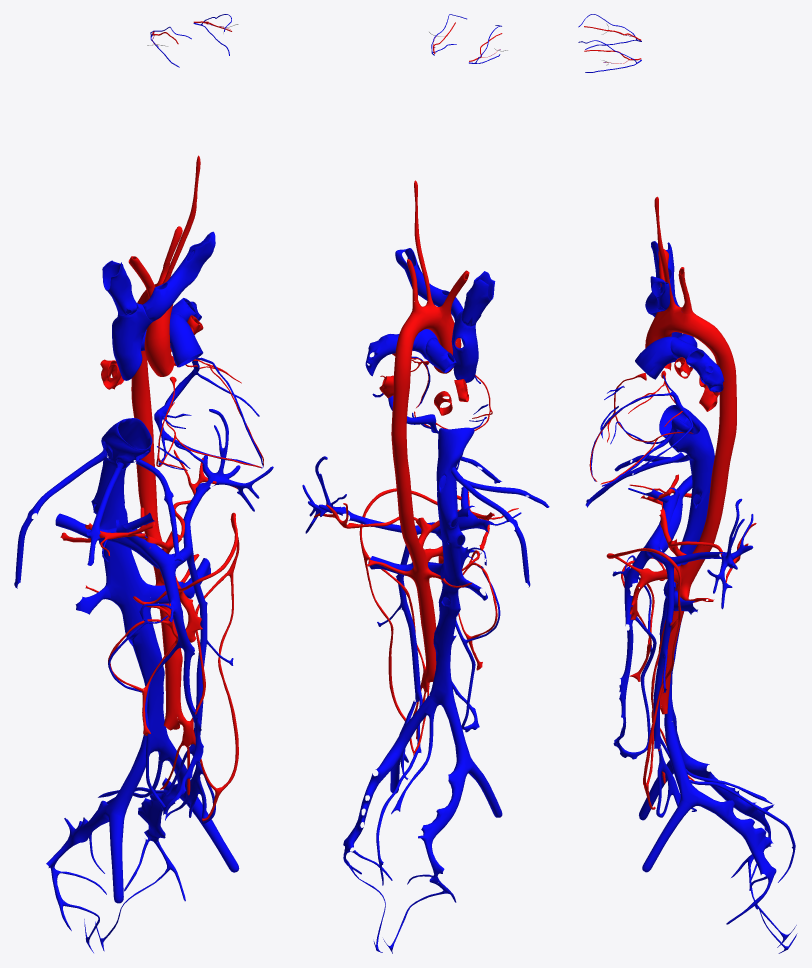
Rendered from blood-vasculature-male.glb.
3 renders of one model, left to right at view 1: azimuth 30°, elevation 25°; view 2: azimuth 150°, elevation 25°; view 3: azimuth 270°, elevation 25°, orthographic. The views are drawn at different scales.
Visible parts, largest first — view 1: VH_M_inferior_vena_cava_b, VH_M_descending_aorta_b, VH_M_superior_mesenteric_vein, VH_M_inferior_vena_cava_a, VH_M_splenic_vein, VH_M_brachiocephalic_vein_L, VH_M_superior_vena_cava, VH_M_marginal_artery_of_Drummond, VH_M_descending_aorta_a, VH_M_inferior_mesenteric_vein, VH_M_brachiocephalic_vein_R, VH_M_pulmonary_trunk (+18 smaller); view 2: VH_M_inferior_vena_cava_b, VH_M_descending_aorta_b, VH_M_descending_aorta_a, VH_M_inferior_vena_cava_a, VH_M_internal_iliac_vein_R, VH_M_aortic_arch, VH_M_superior_vena_cava, VH_M_splenic_vein, VH_M_brachiocephalic_vein_R, VH_M_brachiocephalic_vein_L, VH_M_internal_iliac_vein_L, VH_M_marginal_artery_of_Drummond (+8 smaller); view 3: VH_M_descending_aorta_a, VH_M_descending_aorta_b, VH_M_inferior_vena_cava_b, VH_M_inferior_vena_cava_a, VH_M_internal_iliac_vein_L, VH_M_aortic_arch, VH_M_splenic_vein, VH_M_superior_mesenteric_vein, VH_M_pulmonary_artery_L, VH_M_inferior_mesenteric_vein, VH_M_internal_iliac_vein_R, VH_M_marginal_artery_of_Drummond (+12 smaller).
Part boxes in pixels (x1=…): VH_M_inferior_vena_cava_b: x1=91, y1=474, x2=169, y2=753; VH_M_descending_aorta_b: x1=136, y1=459, x2=182, y2=730; VH_M_superior_mesenteric_vein: x1=158, y1=565, x2=203, y2=812; VH_M_inferior_vena_cava_a: x1=101, y1=418, x2=152, y2=482; VH_M_splenic_vein: x1=170, y1=409, x2=273, y2=568; VH_M_brachiocephalic_vein_L: x1=142, y1=231, x2=215, y2=321; VH_M_superior_vena_cava: x1=112, y1=302, x2=152, y2=380; VH_M_marginal_artery_of_Drummond: x1=179, y1=512, x2=239, y2=821; VH_M_descending_aorta_a: x1=131, y1=298, x2=154, y2=462; VH_M_inferior_mesenteric_vein: x1=186, y1=548, x2=207, y2=755; VH_M_brachiocephalic_vein_R: x1=102, y1=260, x2=137, y2=315; VH_M_pulmonary_trunk: x1=169, y1=313, x2=203, y2=367; VH_M_inferior_vena_cava_b: x1=429, y1=490, x2=465, y2=707; VH_M_descending_aorta_b: x1=396, y1=486, x2=436, y2=682; VH_M_descending_aorta_a: x1=391, y1=344, x2=412, y2=489; VH_M_inferior_vena_cava_a: x1=436, y1=427, x2=474, y2=493; VH_M_internal_iliac_vein_R: x1=418, y1=762, x2=468, y2=883; VH_M_aortic_arch: x1=397, y1=304, x2=459, y2=349; VH_M_superior_vena_cava: x1=451, y1=311, x2=478, y2=382; VH_M_splenic_vein: x1=302, y1=456, x2=440, y2=534; VH_M_brachiocephalic_vein_R: x1=461, y1=271, x2=495, y2=326; VH_M_brachiocephalic_vein_L: x1=395, y1=248, x2=463, y2=320; VH_M_internal_iliac_vein_L: x1=343, y1=752, x2=399, y2=853; VH_M_marginal_artery_of_Drummond: x1=359, y1=488, x2=437, y2=753; VH_M_descending_aorta_a: x1=709, y1=334, x2=736, y2=488; VH_M_descending_aorta_b: x1=657, y1=485, x2=726, y2=714; VH_M_inferior_vena_cava_b: x1=659, y1=470, x2=712, y2=722; VH_M_inferior_vena_cava_a: x1=659, y1=405, x2=714, y2=472; VH_M_internal_iliac_vein_L: x1=696, y1=791, x2=776, y2=881; VH_M_aortic_arch: x1=647, y1=306, x2=721, y2=348; VH_M_splenic_vein: x1=645, y1=498, x2=753, y2=609; VH_M_superior_mesenteric_vein: x1=613, y1=545, x2=651, y2=753; VH_M_pulmonary_artery_L: x1=670, y1=338, x2=724, y2=392; VH_M_inferior_mesenteric_vein: x1=653, y1=561, x2=674, y2=749; VH_M_internal_iliac_vein_R: x1=684, y1=757, x2=774, y2=847; VH_M_marginal_artery_of_Drummond: x1=606, y1=548, x2=681, y2=809.
Bounding box in the file's own units: 0.2361 × 0.8718 × 0.1873.
